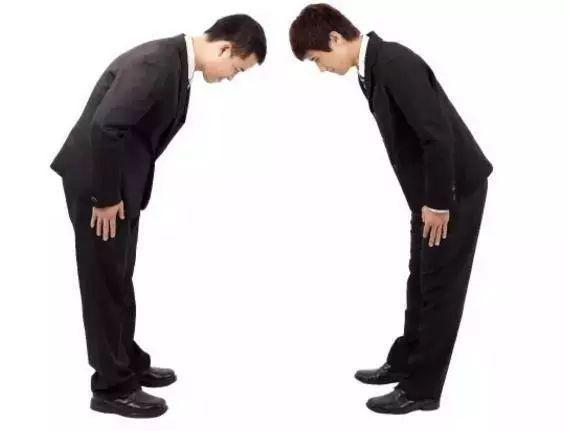bending: (279, 1, 498, 423), (49, 14, 269, 423)
